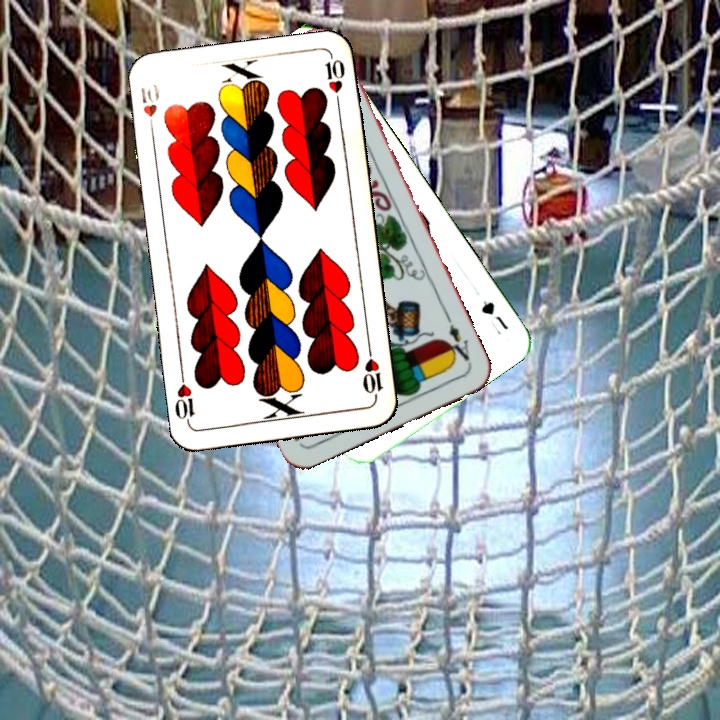EA: (441, 312, 474, 368)
GU: (477, 296, 512, 338)
H10: (358, 343, 386, 402), (136, 80, 163, 137)
